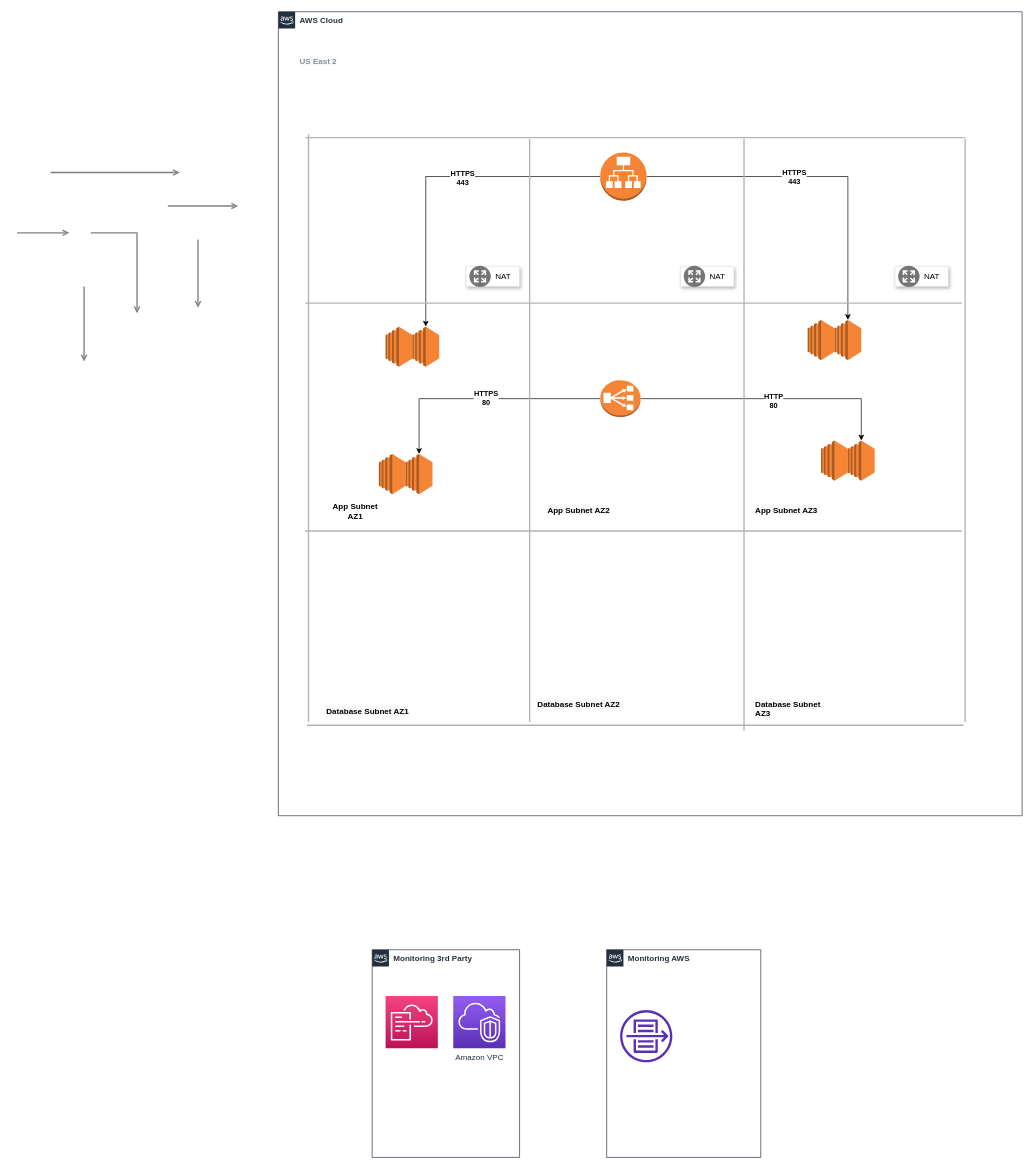
Some shapes in this 1034 by 1169 pixel diagram are drawn without their labels. The shapes that lost their labels are listed below. From the top down, each one's centre as x and y in pixels, then its label:
At (x=411, y=1021): "Account Baseline".
At (x=646, y=1036): "Aggregate CloudTrail and Config Logs".
